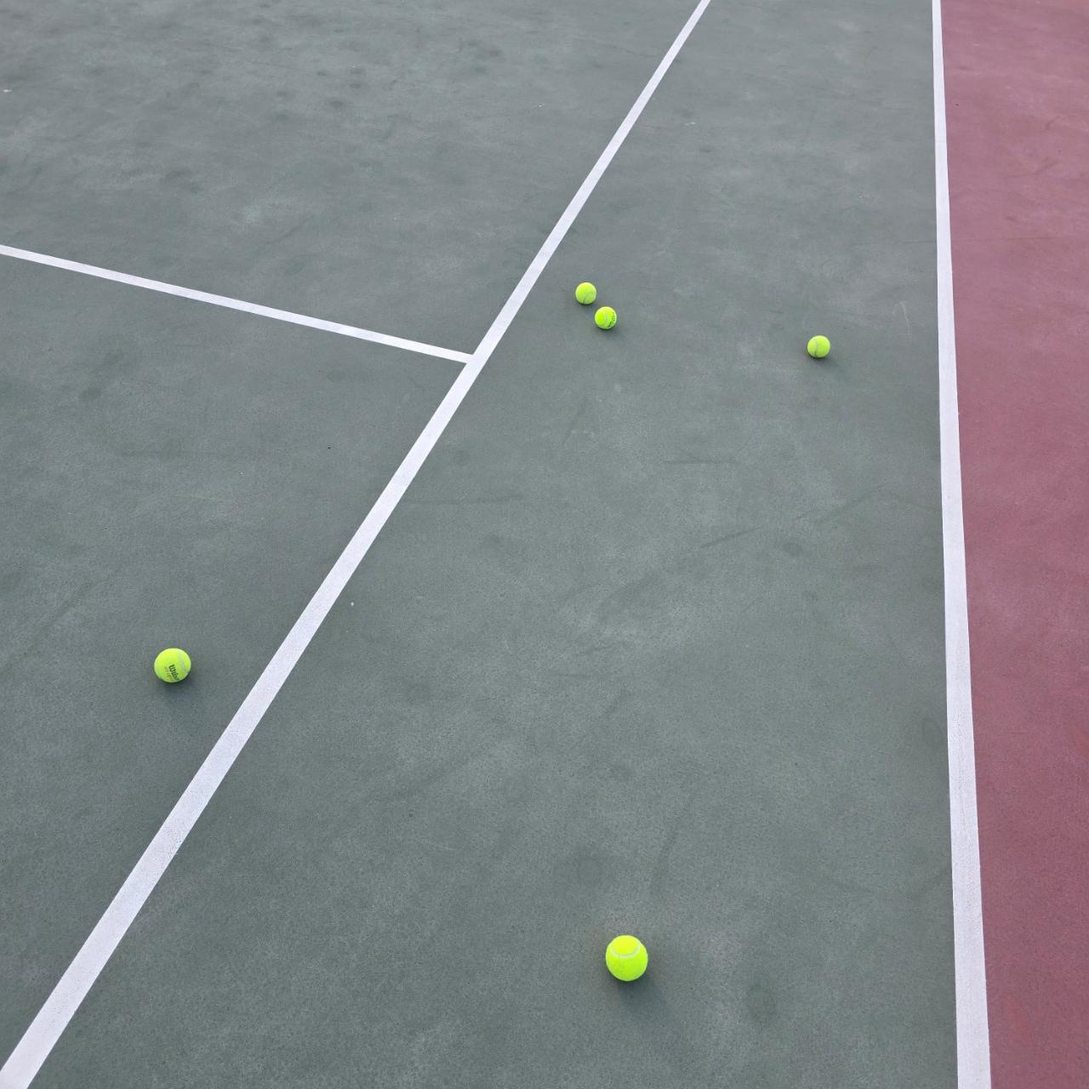tennis-ball: (603, 932, 649, 982), (151, 645, 192, 683), (805, 332, 831, 358), (593, 304, 617, 330), (573, 280, 596, 305)
